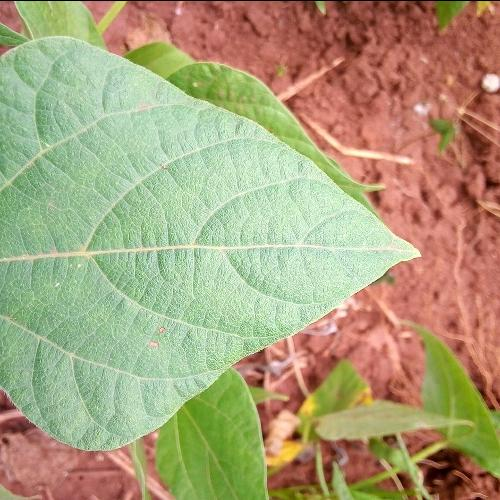sehat: (15, 140, 304, 392)
